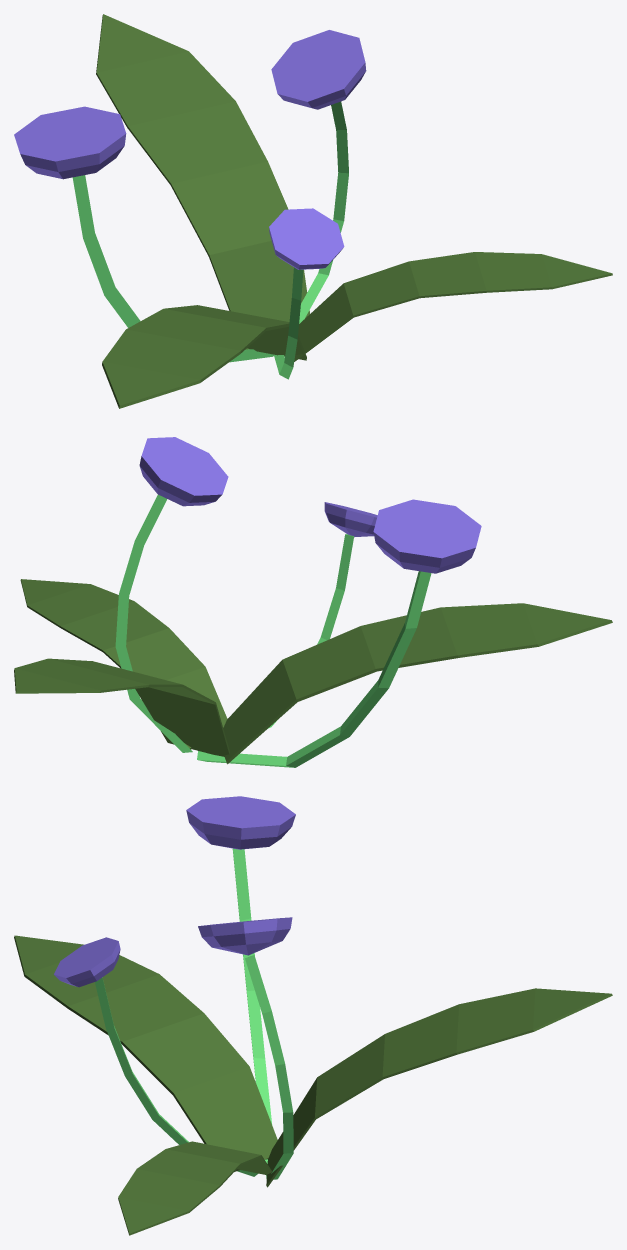
The model's file is flower4.fbx.
3 views of the same model, one above another, from view 1: azimuth 30°, elevation 25°; view 2: azimuth 150°, elevation 25°; view 3: azimuth 270°, elevation 25° (orthographic). The views are drawn at different scales.
Parts seen in each view (by area): view 1: Cylinder.006; view 2: Cylinder.006; view 3: Cylinder.006.
Part boxes in pixels (<box>): Cylinder.006: <box>14,14,612,408</box>; Cylinder.006: <box>14,437,612,767</box>; Cylinder.006: <box>14,796,612,1235</box>.
Bounding box in the file's own units: 302 × 161 × 301.
